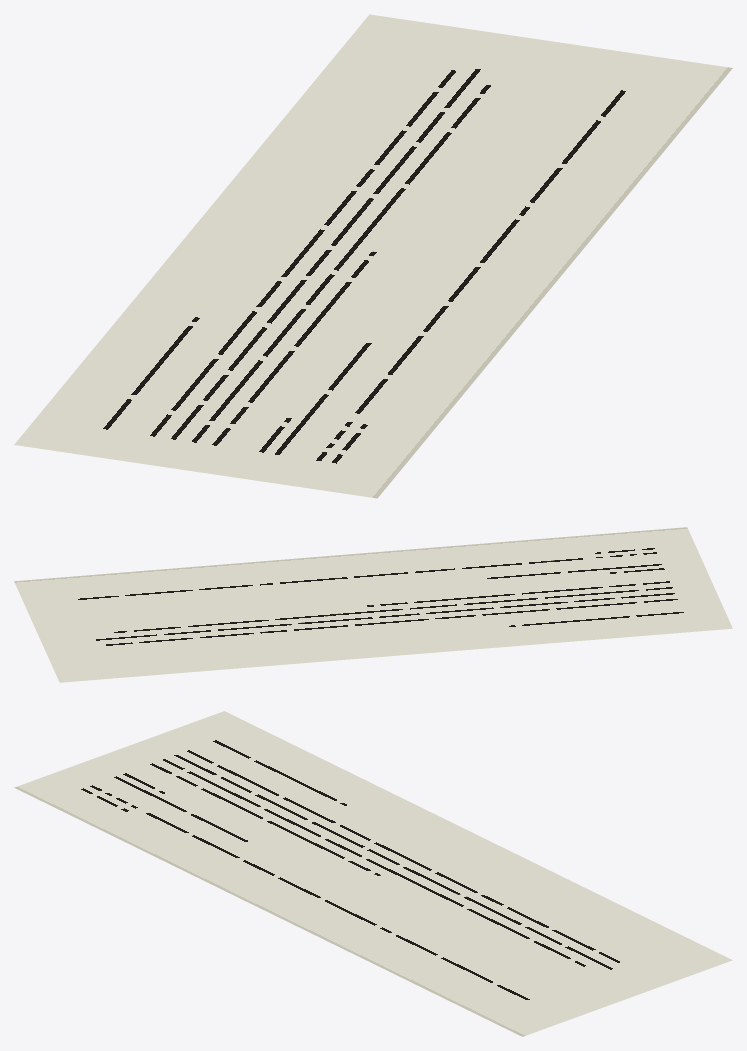
The model's file is Nametag.glb.
3 views of the same model, one above another, from view 1: azimuth 30°, elevation 25°; view 2: azimuth 150°, elevation 25°; view 3: azimuth 270°, elevation 25° (orthographic). The views are drawn at different scales.
Parts seen in each view (by area): view 1: skylarNametag; view 2: skylarNametag; view 3: skylarNametag.
Part boxes in pixels (x1,y1,x2,y2): skylarNametag: [14, 14, 732, 498]; skylarNametag: [14, 527, 732, 682]; skylarNametag: [14, 711, 732, 1036].
Bounding box in the file's own units: 0.1309 × 0 × 0.122.
1 material, 1 textured.
